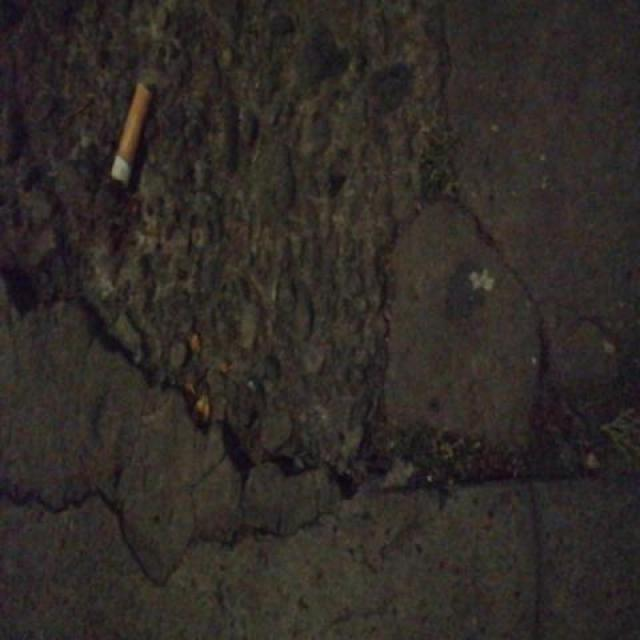non-organic waste: (107, 72, 157, 192)
